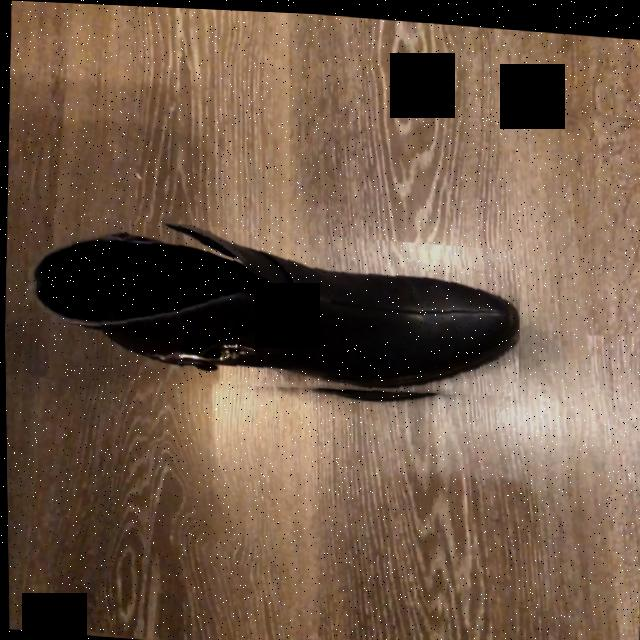shoe: (30, 221, 518, 391)
